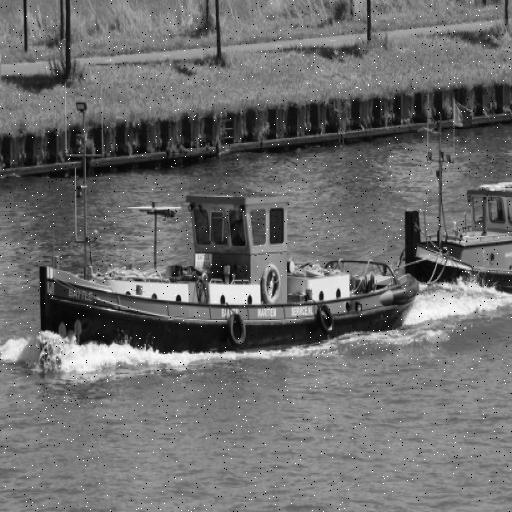tugboat: (37, 84, 421, 365), (403, 148, 512, 315)
